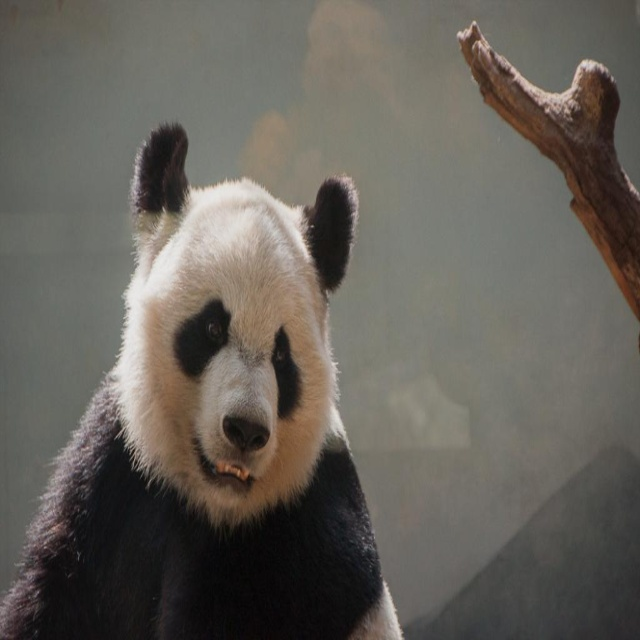Panda: (0, 120, 405, 637)
